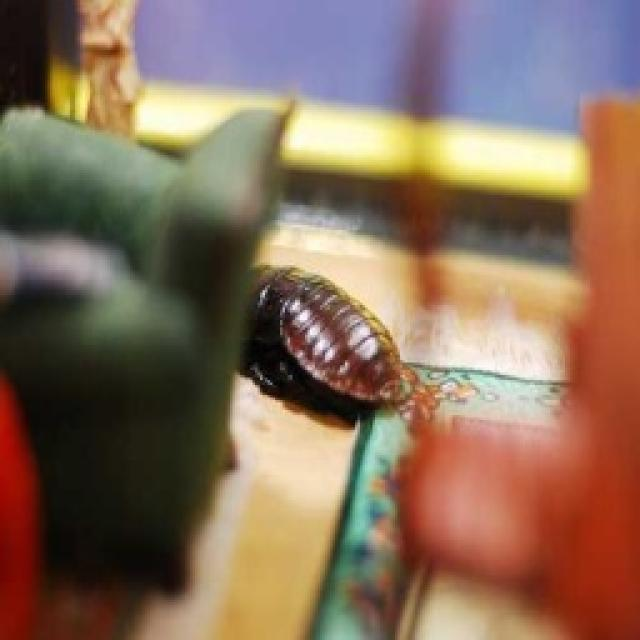cockroach: (225, 235, 426, 419)
